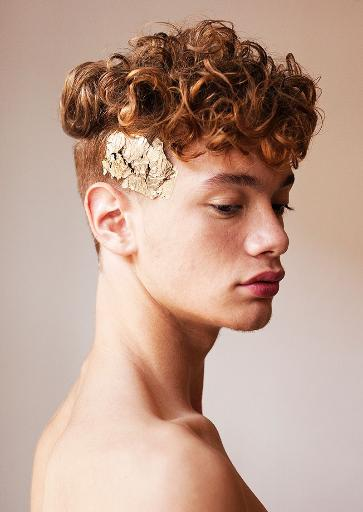left_eye: (272, 201, 290, 214)
right_eye: (196, 197, 245, 220)
right_lip_corner: (230, 279, 247, 298)
